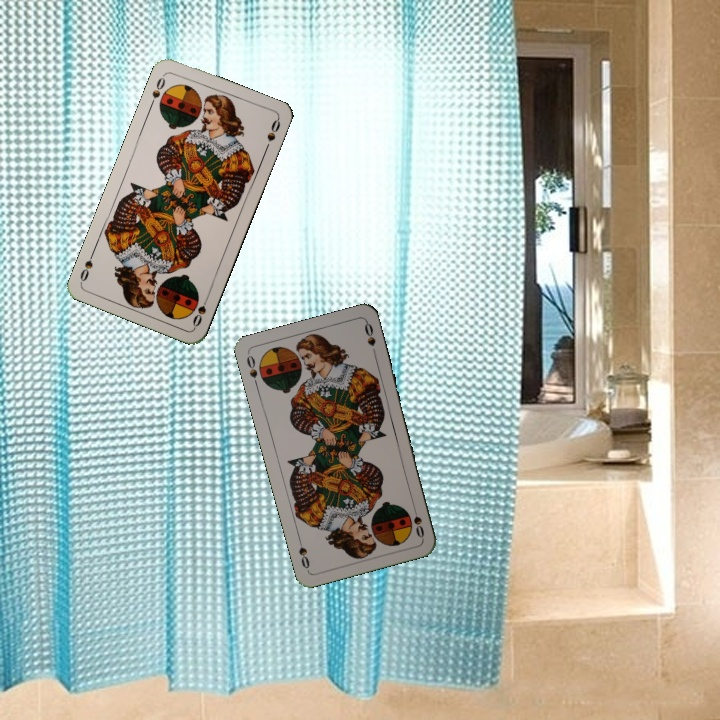SO: (188, 291, 212, 330), (146, 70, 168, 109), (409, 501, 427, 541), (243, 351, 261, 390)
